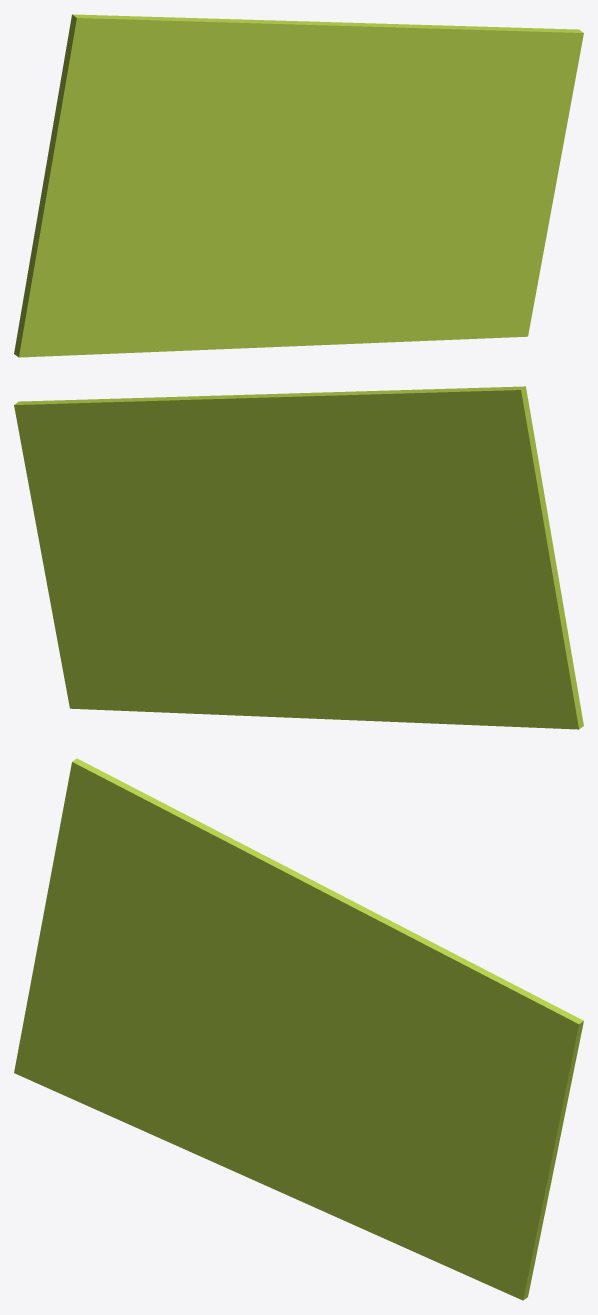
The picture shows the model from 3 angles, top to bottom: view 1: azimuth 30°, elevation 25°; view 2: azimuth 150°, elevation 25°; view 3: azimuth 330°, elevation 25°; orthographic projection.
Visible parts, largest first — view 1: osm-way27917482-F0; view 2: osm-way27917482-F0; view 3: osm-way27917482-F0.
Boxes of the visible parts, x1,y1,x2,y2 form: osm-way27917482-F0: (14,14,583,357); osm-way27917482-F0: (14,386,583,729); osm-way27917482-F0: (14,758,583,1300).
Size of the model in its own units: 10.04 by 7.28 by 0.15.
